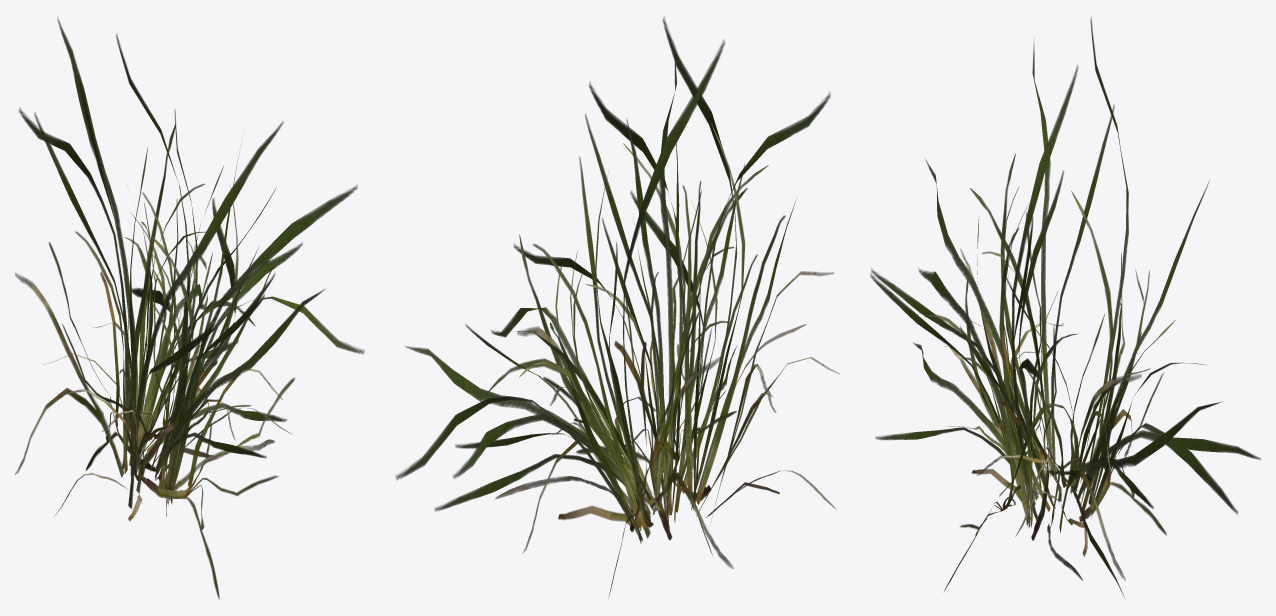
The model's file is grass_tall_c.glb.
The picture shows the model from 3 angles, left to right: view 1: azimuth 30°, elevation 25°; view 2: azimuth 150°, elevation 25°; view 3: azimuth 270°, elevation 25°; orthographic projection. The views are drawn at different scales.
Parts seen in each view (by area): view 1: grass_medium_01_mid_c_LOD0.001; view 2: grass_medium_01_mid_c_LOD0.001; view 3: grass_medium_01_mid_c_LOD0.001.
Part boxes in pixels (x1,y1,x2,y2): grass_medium_01_mid_c_LOD0.001: (15,17,364,599); grass_medium_01_mid_c_LOD0.001: (395,16,839,597); grass_medium_01_mid_c_LOD0.001: (870,17,1260,597).
Bounding box in the file's own units: 2.45 × 3.91 × 2.58.
Materials: 1 (1 with a texture image).
